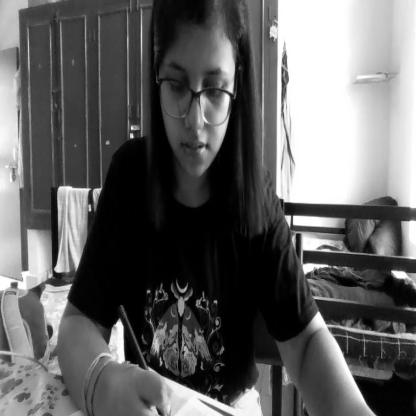Normal: (150, 0, 240, 188)
